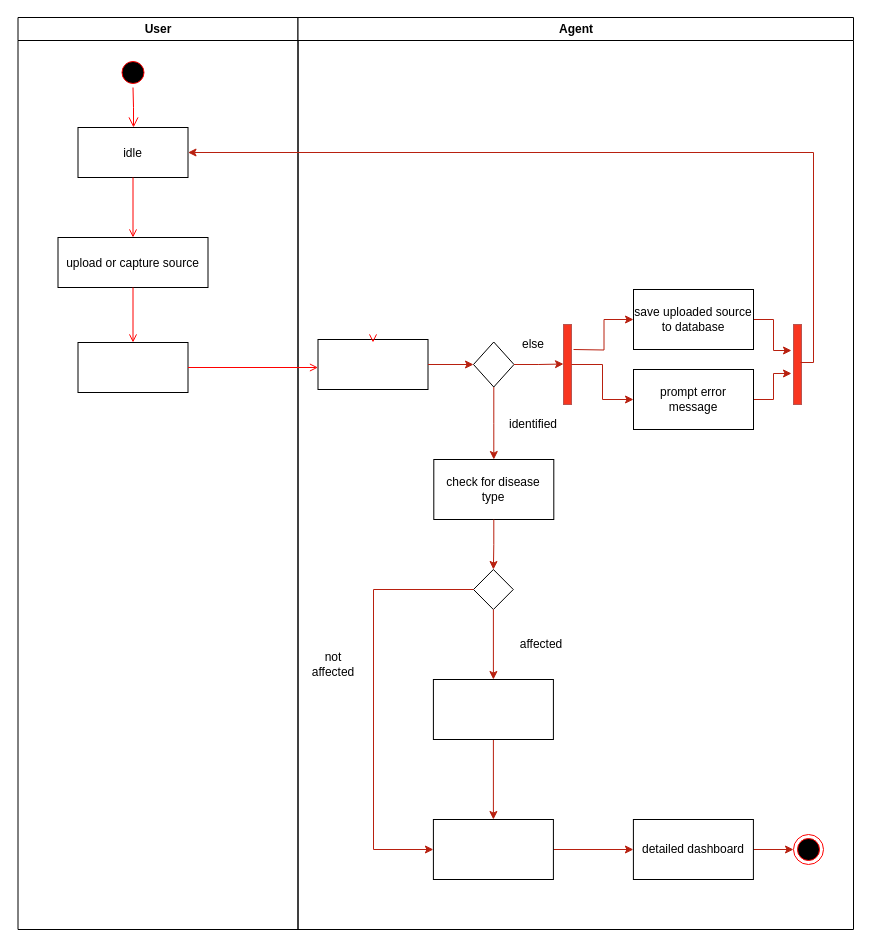
This 871x947 diagram has some shape labels left out. The centre of each missing label's shape, as x and y in pixels:
"check for new commands" goes at pixel 372 364.
"identify disease" goes at pixel 492 709.
"prepare dashboard" goes at pixel 492 849.
"send to agent" goes at pixel 132 367.
